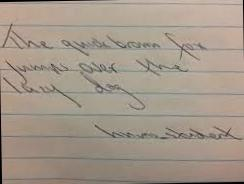text: (2, 18, 212, 66), (1, 72, 146, 115), (2, 53, 190, 84), (91, 118, 243, 144)
